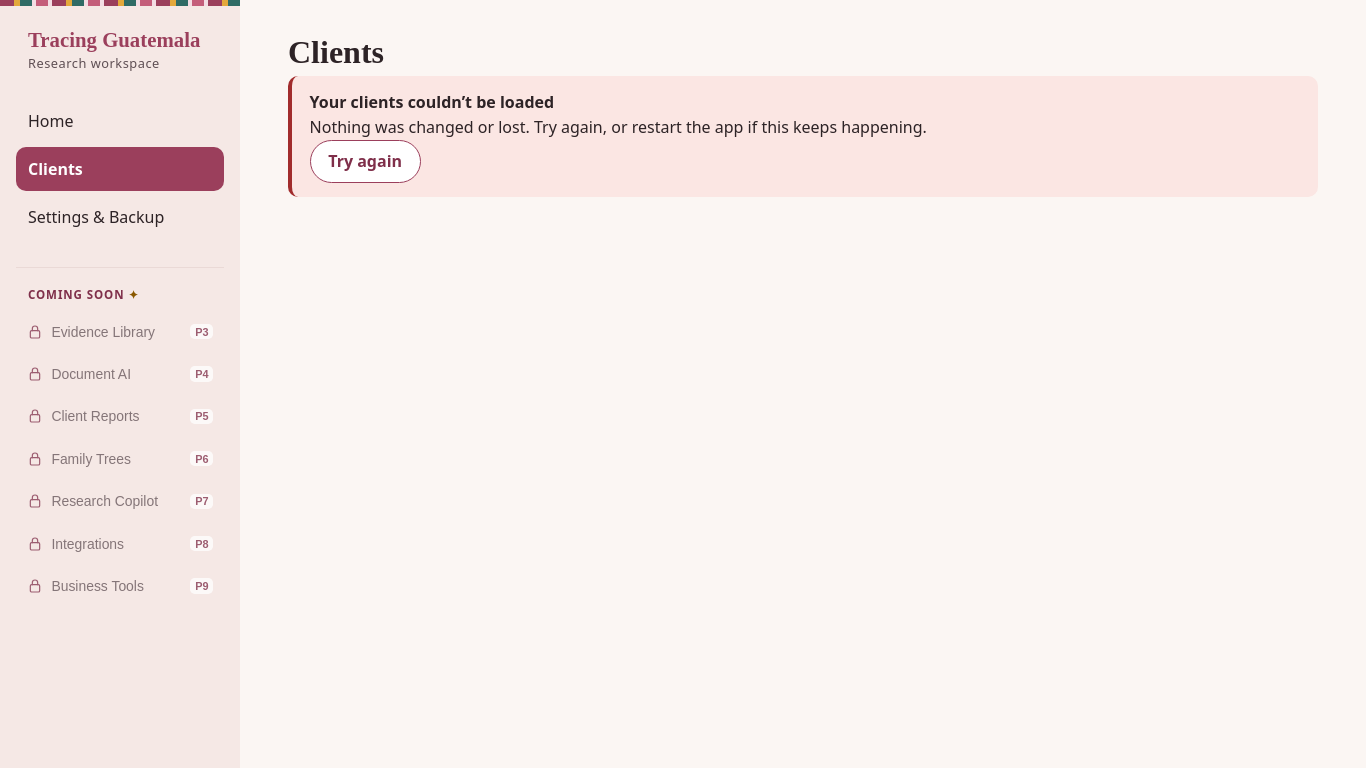
it: client directory › explains a failed load and retries
Expected: the text "Your clients couldn’t be loaded" is shown, [310,91,554,113]
Click the button "Try again".
click(365, 161)  # box [310,140,421,183]
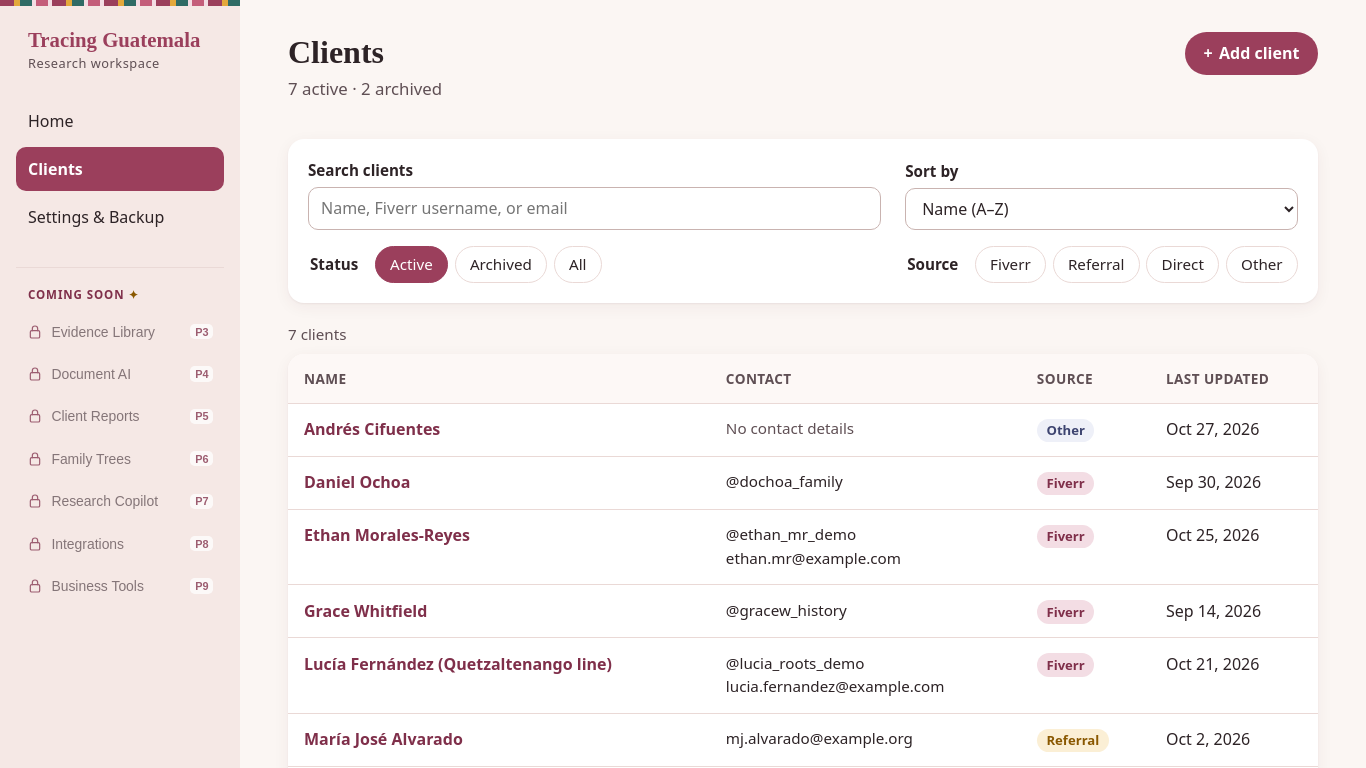
Expected: the link "Daniel Ochoa" is shown, [304,471,410,493]
